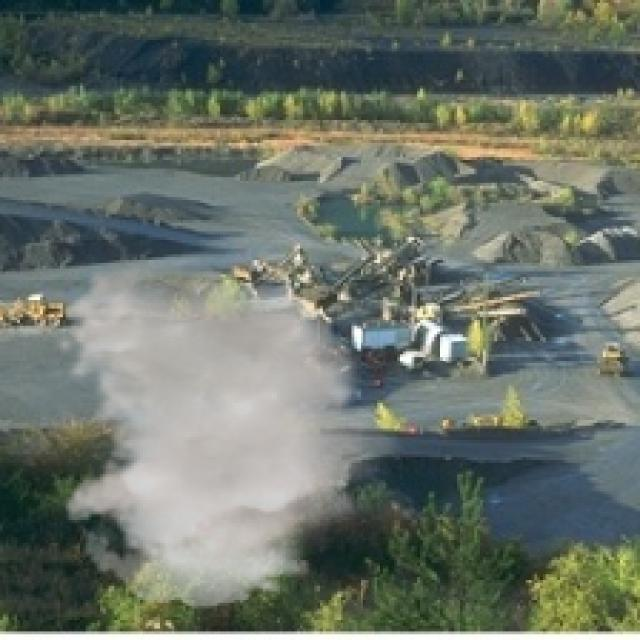Smoke: (51, 266, 406, 608)
